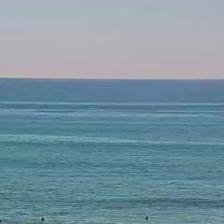surfer: (40, 217, 46, 222), (145, 215, 149, 221), (1, 218, 3, 223), (96, 223, 104, 223)
